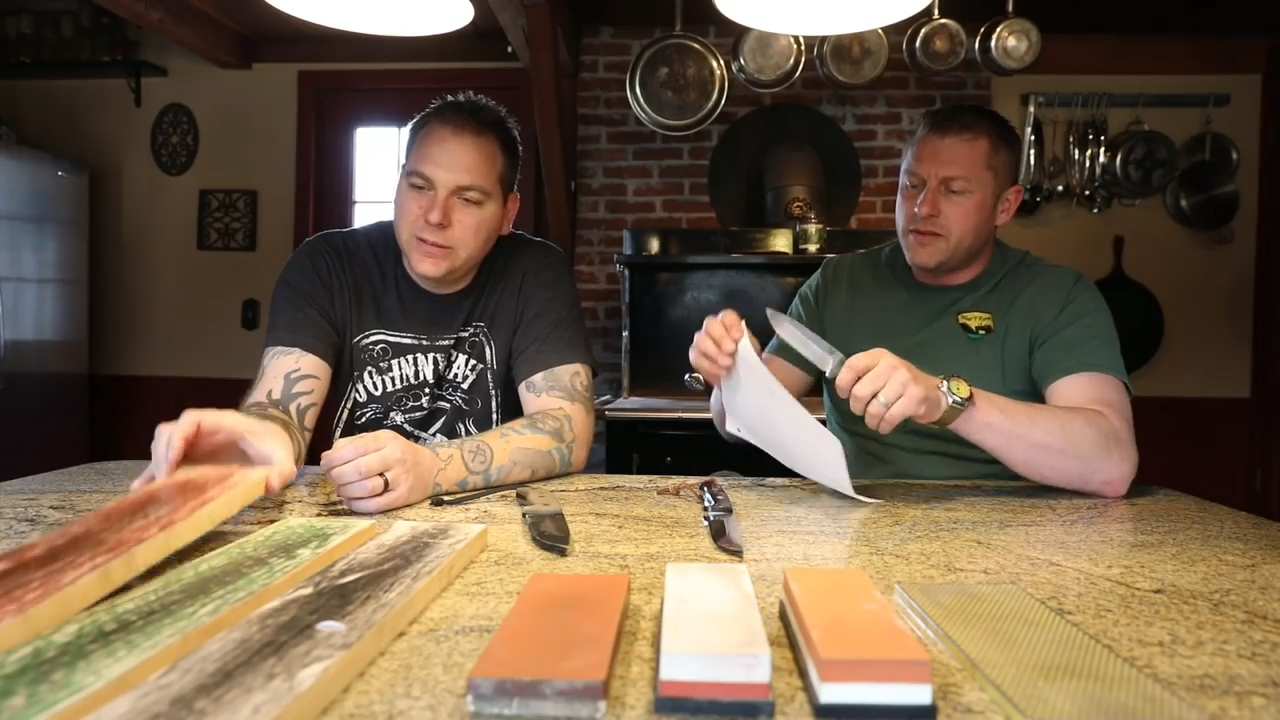knife: (756, 293, 920, 430)
